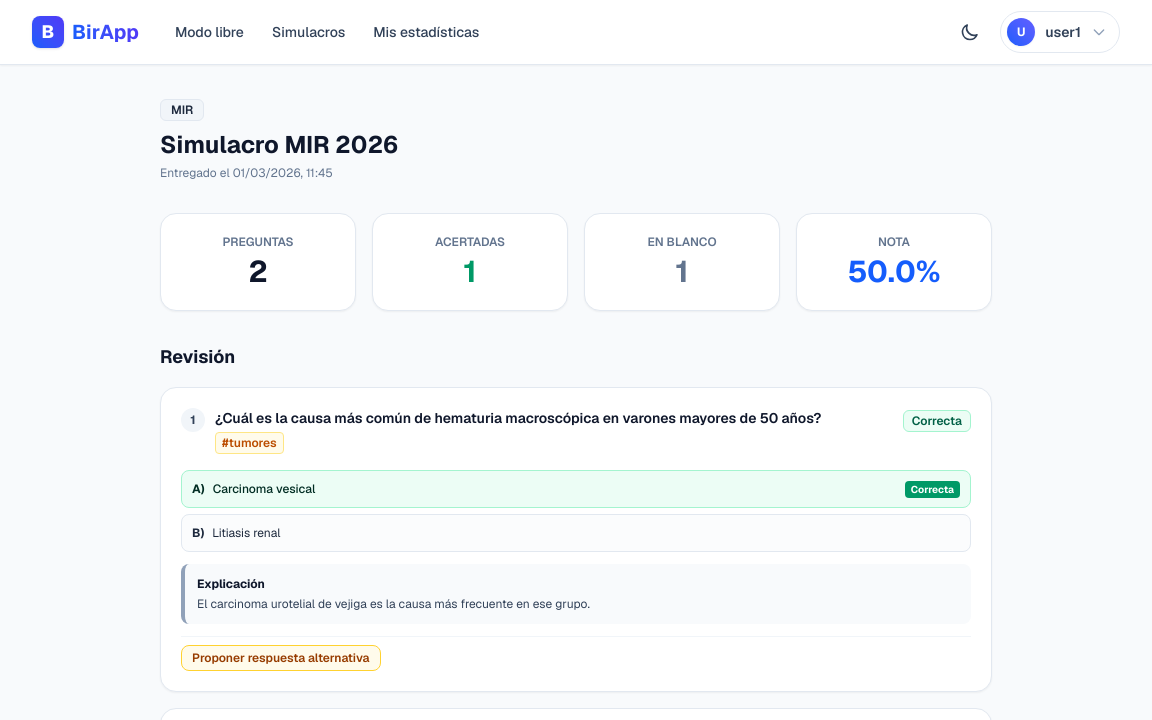
SimulacroResultPage (/simulacros/[id]/attempts/[attemptId]/result) › allows submitting an alternative answer proposal on a question
Expand proposal details for Question 1
Click the heading "Proponer respuesta alternativa": (281, 658) [181,645,380,671]
(page scrolled)
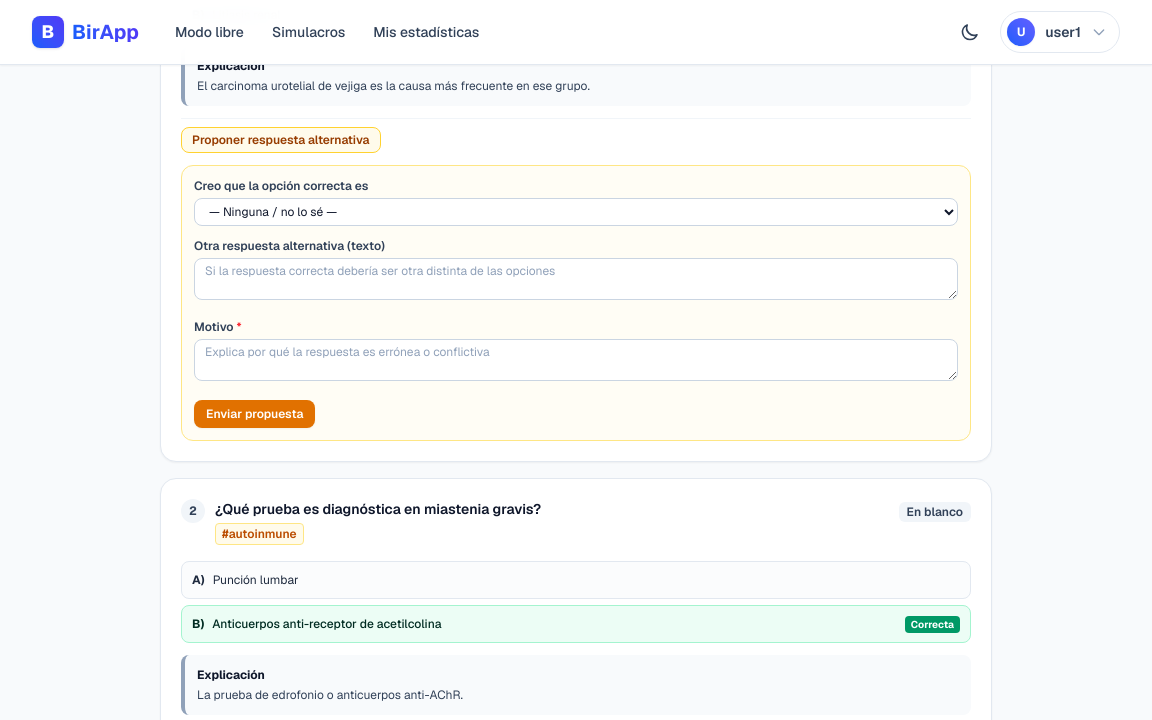
In the text box with placeholder "Explica por qué la respuesta es errónea o conflictiva": (576, 360) [194,339,958,381], type "Considero que Litiasis renal también debe ser contemplada."
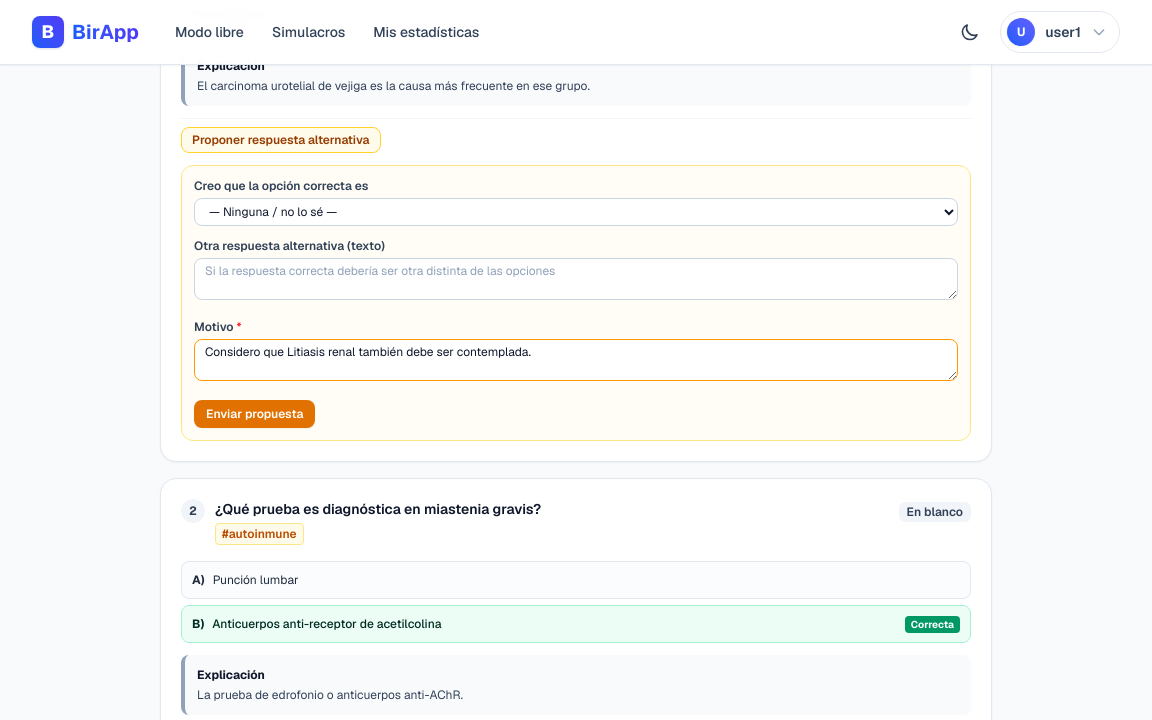
Click the button "Enviar propuesta": (255, 414) [194,400,315,428]
(page scrolled)
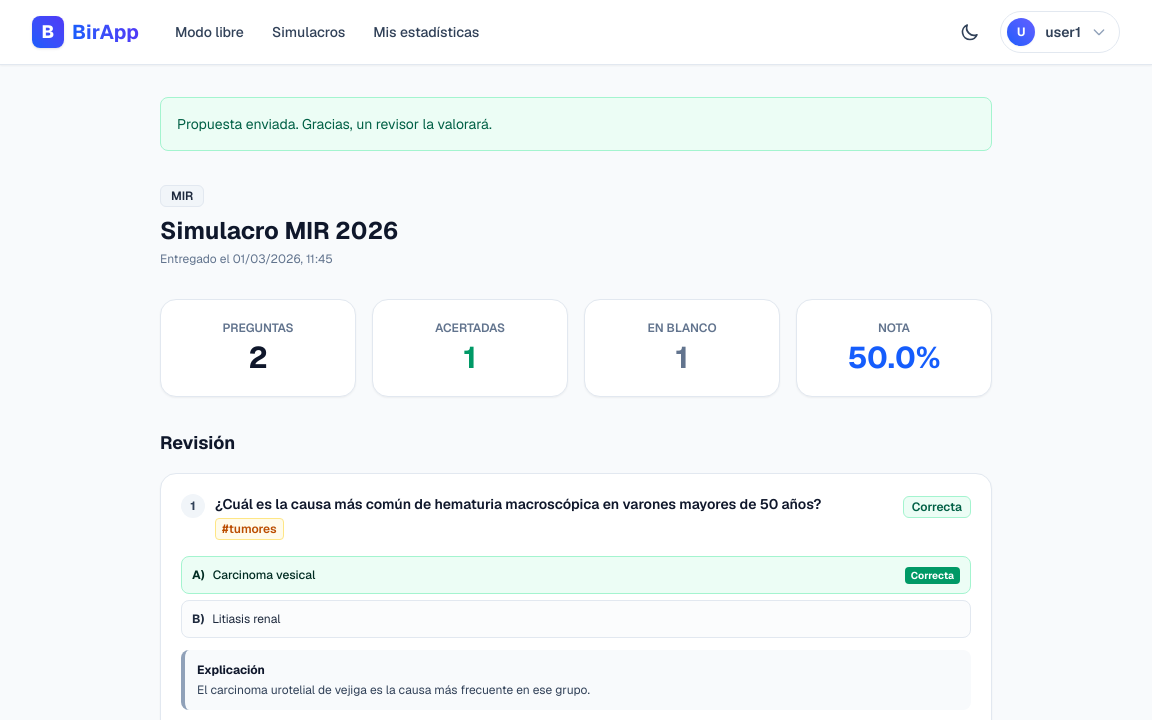
Check: the text "Propuesta enviada. Gracias, un revisor la valorará." is shown, box [160,97,992,151]
